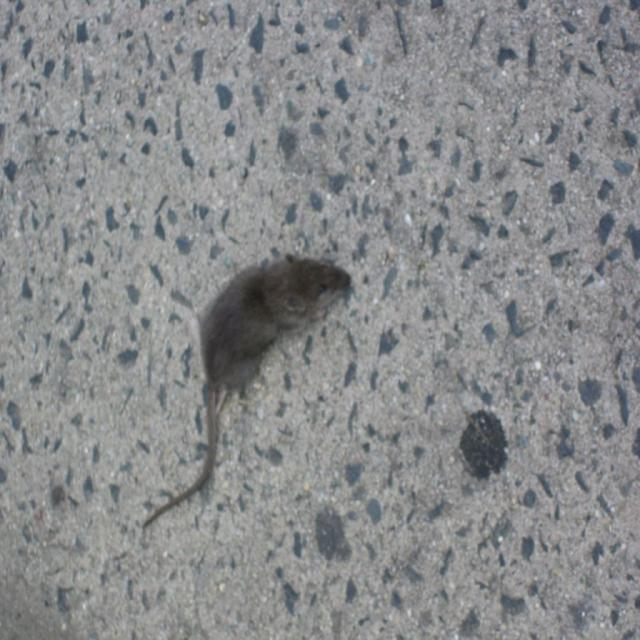rat: (126, 251, 356, 536)
